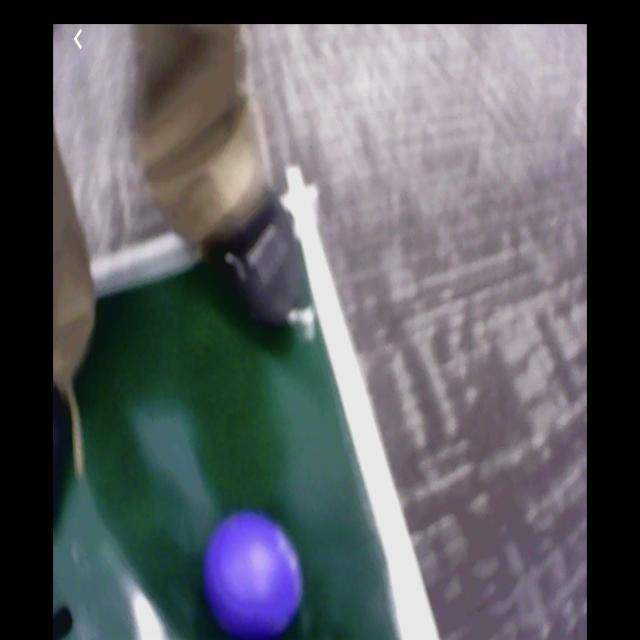ball: (205, 511, 304, 639)
